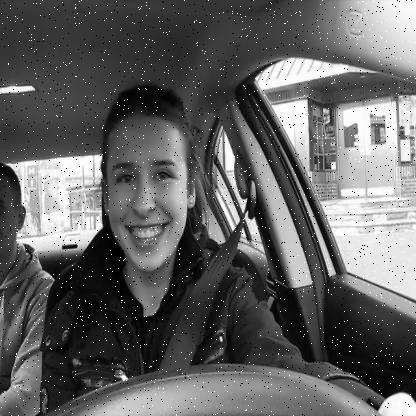seatbelt: (93, 71, 269, 416)
